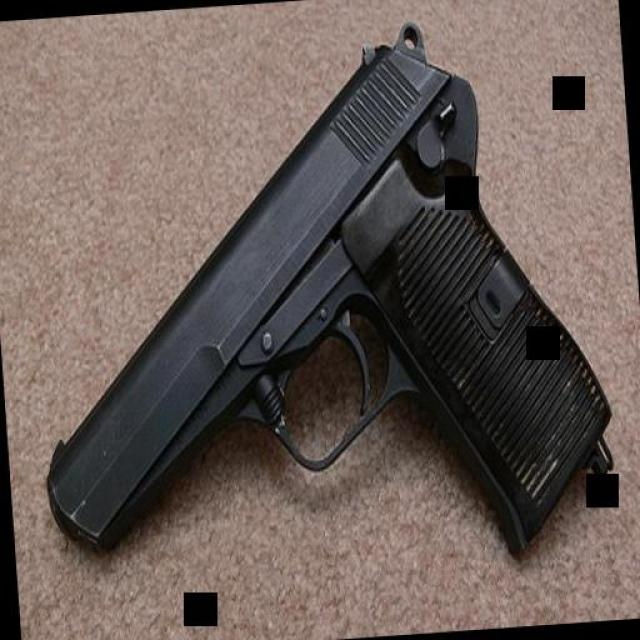gun: (11, 16, 620, 576)
